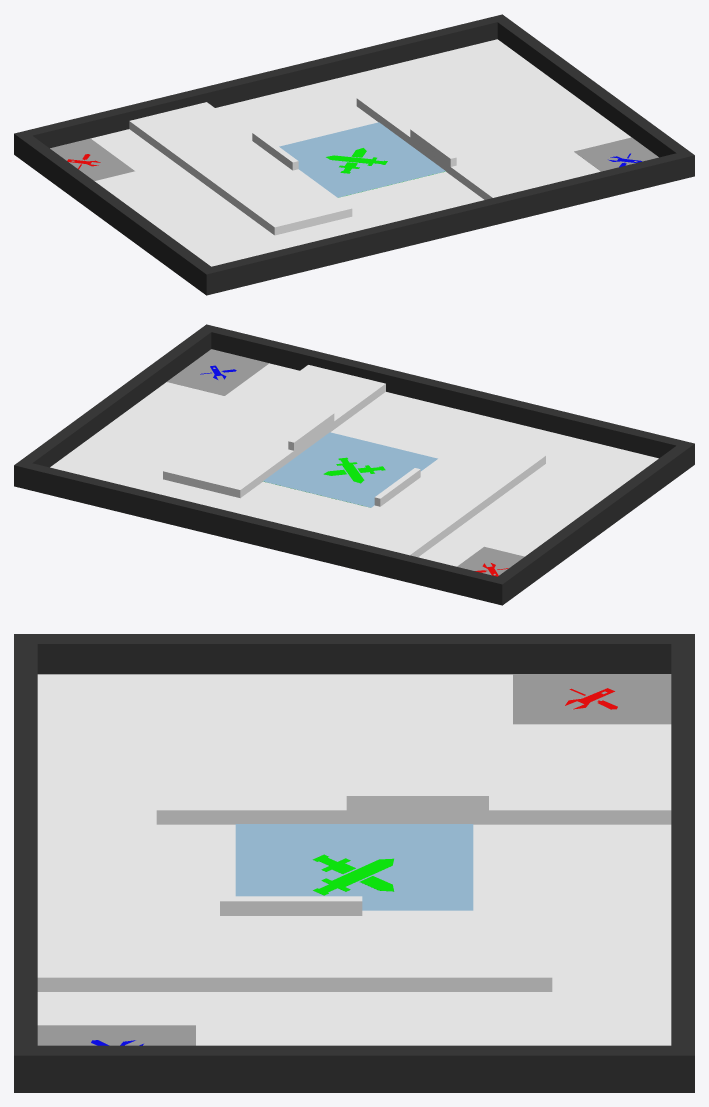
The model's file is RMUL2026.dae.
3 views of the same model, one above another, from view 1: azimuth 30°, elevation 25°; view 2: azimuth 150°, elevation 25°; view 3: azimuth 270°, elevation 25° (orthographic). The views are drawn at different scales.
Visible parts, largest first — view 1: RMUL2026 (×2); view 2: RMUL2026 (×2); view 3: RMUL2026 (×2).
Boxes of the visible parts, <box> form: RMUL2026 (×2): <box>14,14,694,295</box>; RMUL2026 (×2): <box>14,324,694,605</box>; RMUL2026 (×2): <box>14,634,694,1092</box>.
Bounding box in the file's own units: 12600 × 8600 × 520.
